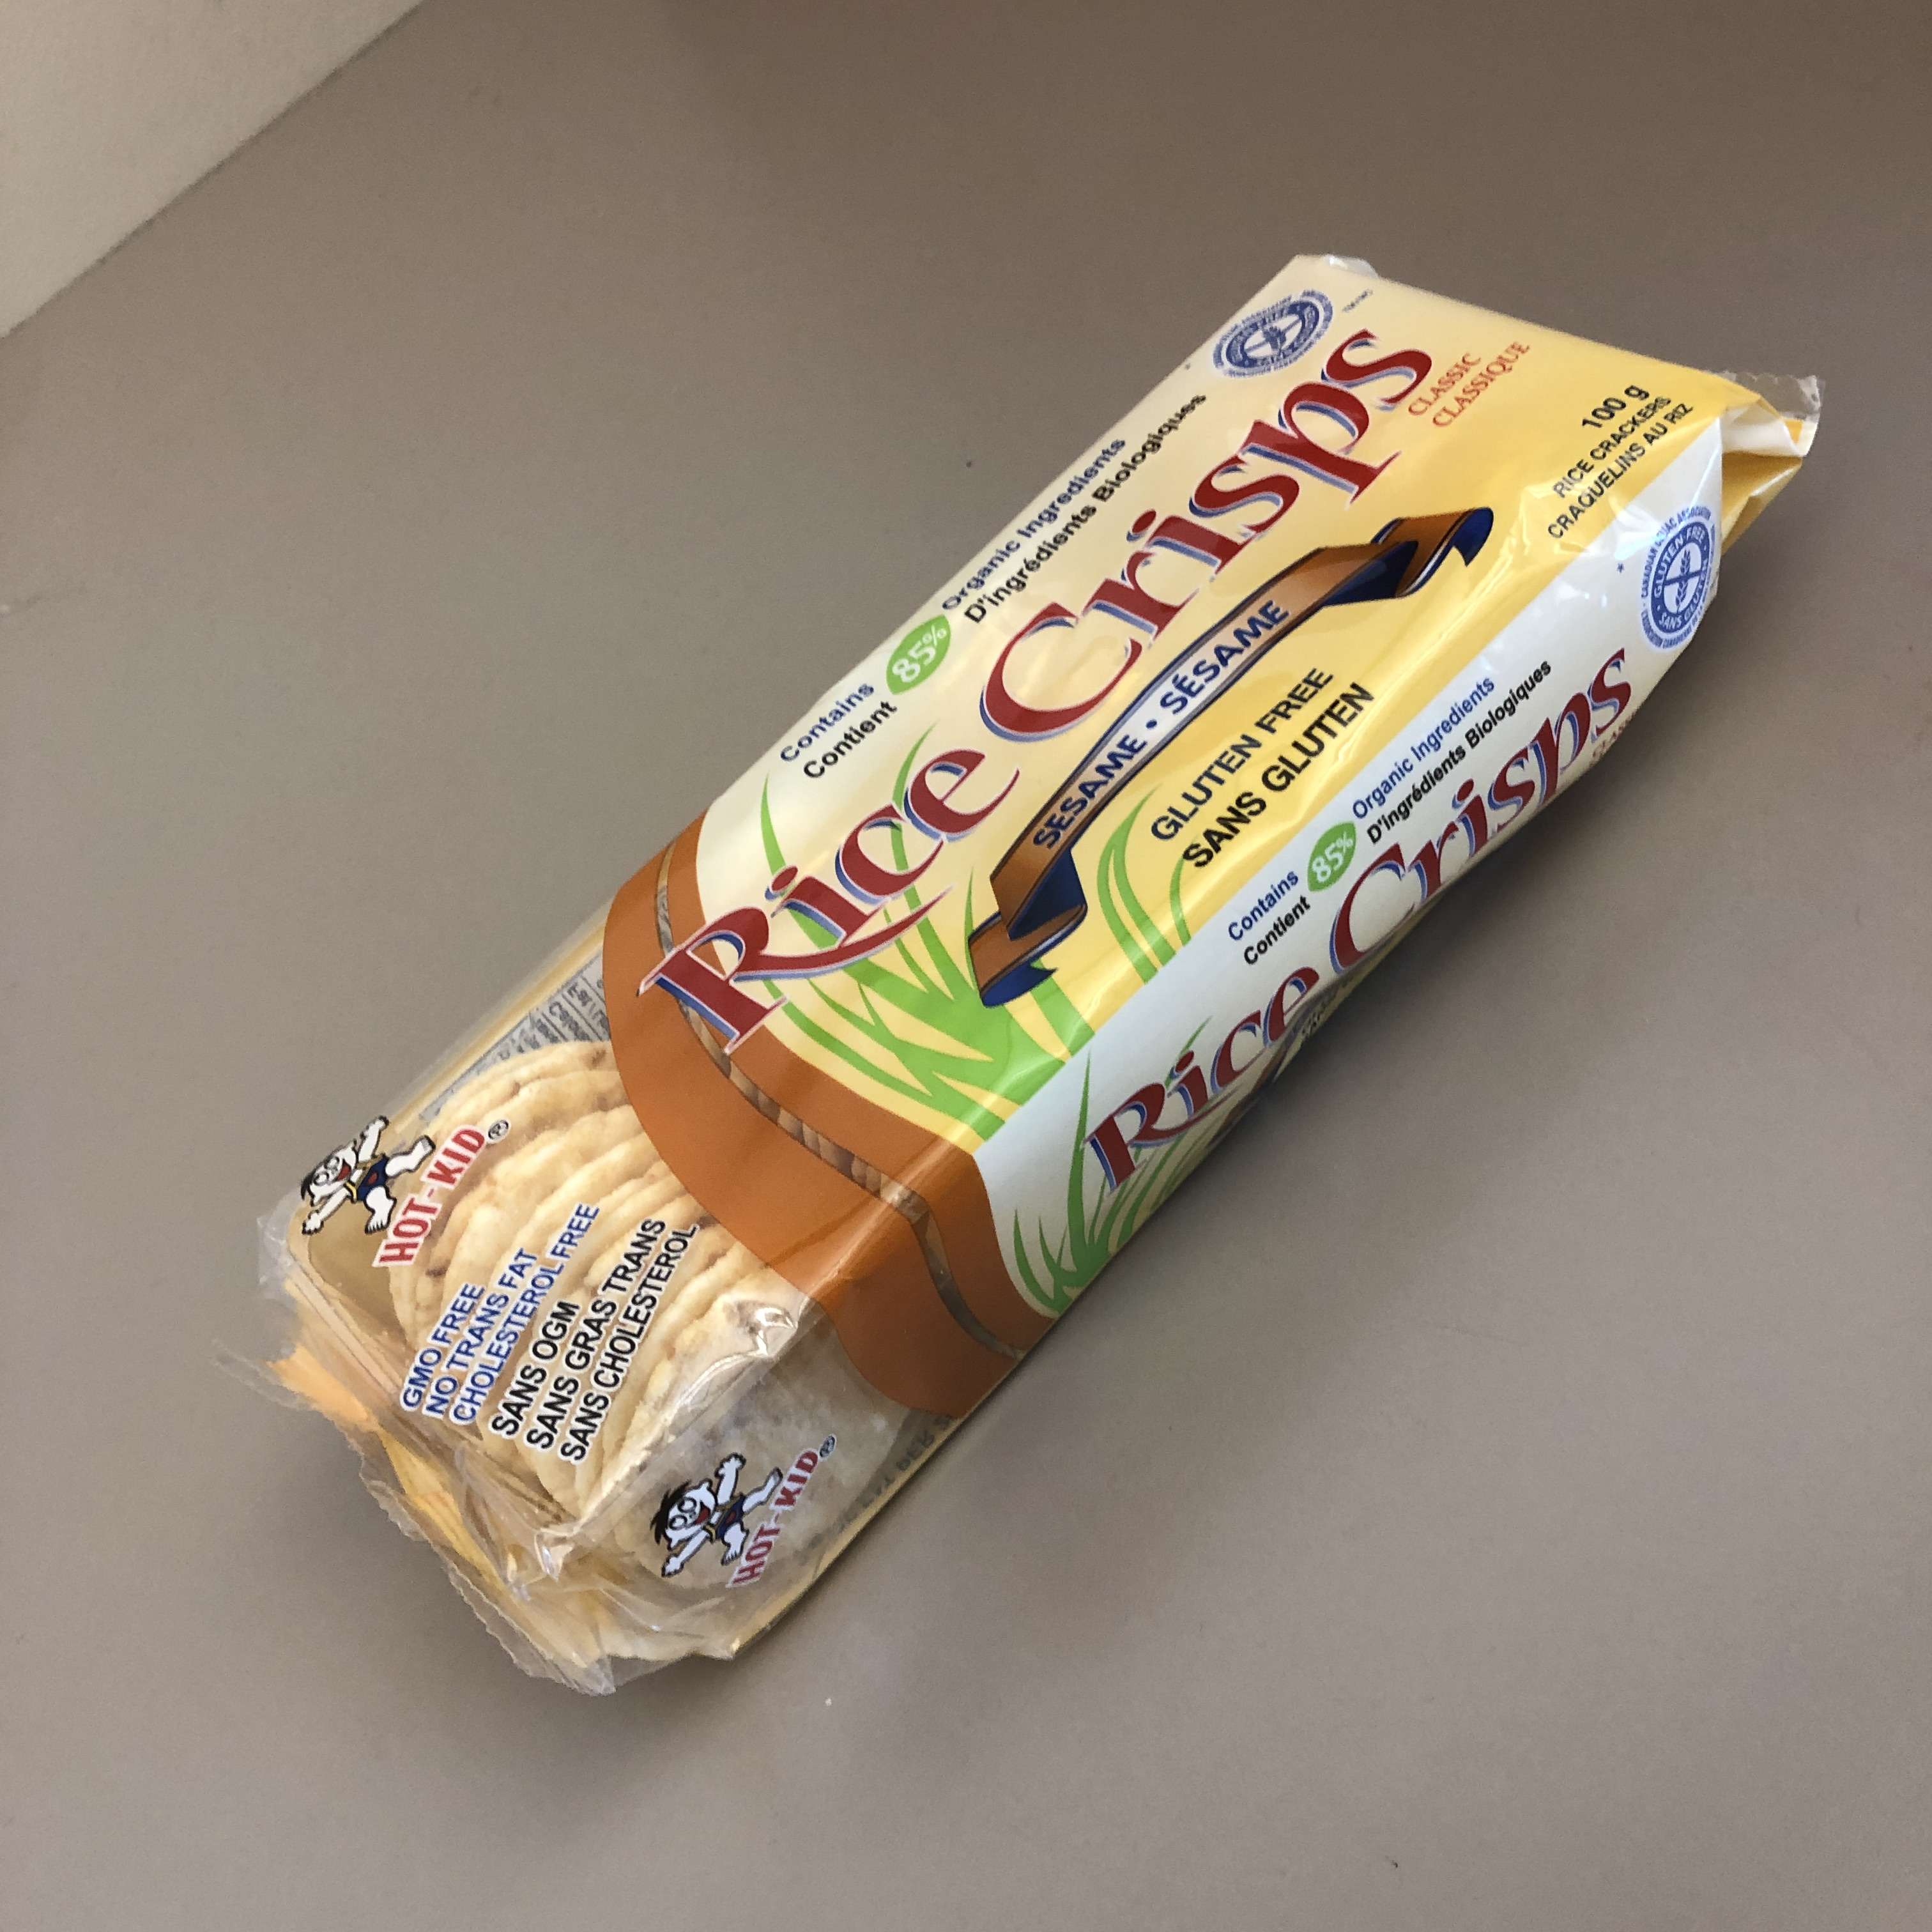hot_kid_rice_crisps_sesame: (318, 139, 1556, 1621)
